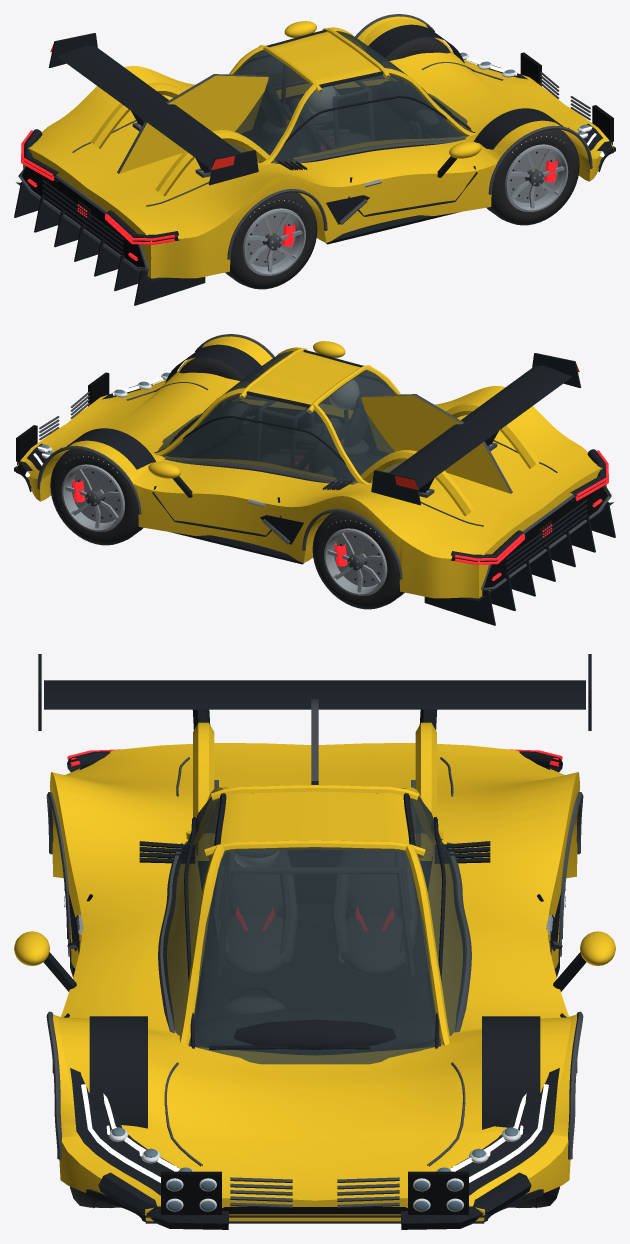
Rendered from fleet-7.glb.
3 views of the same model, one above another, from view 1: azimuth 30°, elevation 25°; view 2: azimuth 150°, elevation 25°; view 3: azimuth 270°, elevation 25° (orthographic). The views are drawn at different scales.
Visible parts, largest first — view 1: GT_body, GT_glazing, GT_tyre, GT_rear_wing, GT_engine_spine, GT_diffuser_fin, GT_roof, GT_wheelwell_liner, GT_cockpit_floor, GT_alloy_disc, GT_dorsal_fairing, GT_rear_fascia (+29 smaller); view 2: GT_body, GT_glazing, GT_tyre, GT_rear_wing, GT_engine_spine, GT_diffuser_fin, GT_roof, GT_wheelwell_liner, GT_cockpit_floor, GT_alloy_disc, GT_dorsal_fairing, GT_rear_fascia (+29 smaller); view 3: GT_body, GT_glazing, GT_rear_wing, GT_wheelwell_liner, GT_cockpit_floor, GT_roof, GT_dashboard, GT_headlight_surround, GT_bucket_base, GT_roof_pillar.001, GT_bucket_back, GT_headlight (+22 smaller).
Part boxes in pixels (<box>): GT_body: <box>23,16,613,278</box>; GT_glazing: <box>227,31,472,163</box>; GT_tyre: <box>226,37,579,289</box>; GT_rear_wing: <box>57,45,240,169</box>; GT_engine_spine: <box>119,75,268,173</box>; GT_diffuser_fin: <box>14,182,205,305</box>; GT_roof: <box>270,32,380,84</box>; GT_wheelwell_liner: <box>368,24,563,149</box>; GT_cockpit_floor: <box>247,101,432,159</box>; GT_alloy_disc: <box>246,148,557,266</box>; GT_dorsal_fairing: <box>90,82,274,195</box>; GT_rear_fascia: <box>21,166,144,267</box>; GT_body: <box>16,336,606,598</box>; GT_glazing: <box>157,351,402,483</box>; GT_tyre: <box>50,357,403,609</box>; GT_rear_wing: <box>389,365,572,489</box>; GT_engine_spine: <box>361,395,510,493</box>; GT_diffuser_fin: <box>424,502,615,625</box>; GT_roof: <box>249,352,359,404</box>; GT_wheelwell_liner: <box>66,344,261,469</box>; GT_cockpit_floor: <box>197,423,382,479</box>; GT_alloy_disc: <box>72,468,383,586</box>; GT_dorsal_fairing: <box>355,402,539,515</box>; GT_rear_fascia: <box>484,487,607,587</box>; GT_body: <box>49,743,580,1221</box>; GT_glazing: <box>163,796,466,1064</box>; GT_rear_wing: <box>44,680,585,709</box>; GT_wheelwell_liner: <box>89,1016,540,1129</box>; GT_cockpit_floor: <box>195,904,434,1047</box>; GT_roof: <box>220,791,409,843</box>; GT_dashboard: <box>194,1007,435,1055</box>; GT_headlight_surround: <box>70,1068,559,1195</box>; GT_bucket_base: <box>224,915,405,976</box>; GT_roof_pillar.001: <box>179,786,450,1045</box>; GT_bucket_back: <box>220,850,409,916</box>; GT_headlight: <box>98,1172,531,1229</box>.
Size of the model in its own units: 0.354 by 0.1103 by 0.2163.
